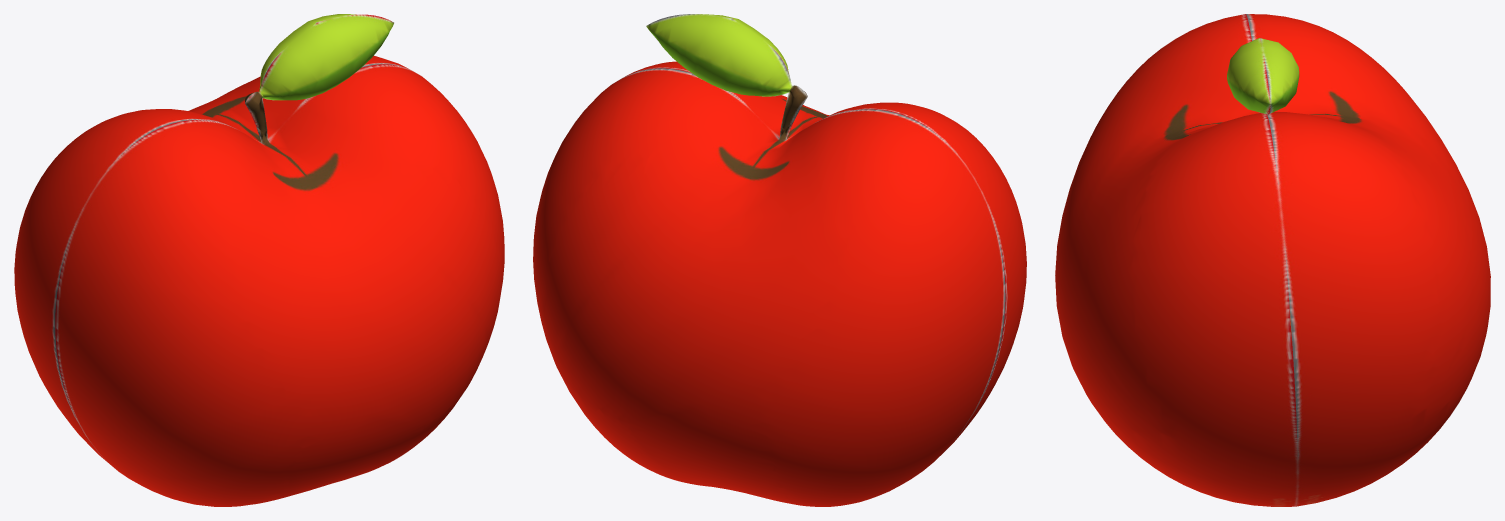
File: apple_e3173857.glb
The picture shows the model from 3 angles, left to right: view 1: azimuth 30°, elevation 25°; view 2: azimuth 150°, elevation 25°; view 3: azimuth 270°, elevation 25°; orthographic projection. The views are drawn at different scales.
Parts seen in each view (by area): view 1: Object_2; view 2: Object_2; view 3: Object_2.
Part boxes in pixels (x1,y1,x2,y2): Object_2: (14, 14, 504, 506); Object_2: (533, 14, 1026, 506); Object_2: (1055, 14, 1490, 506).
Size of the model in its own units: 4.05 by 4 by 3.45.
1 material, 1 textured.
